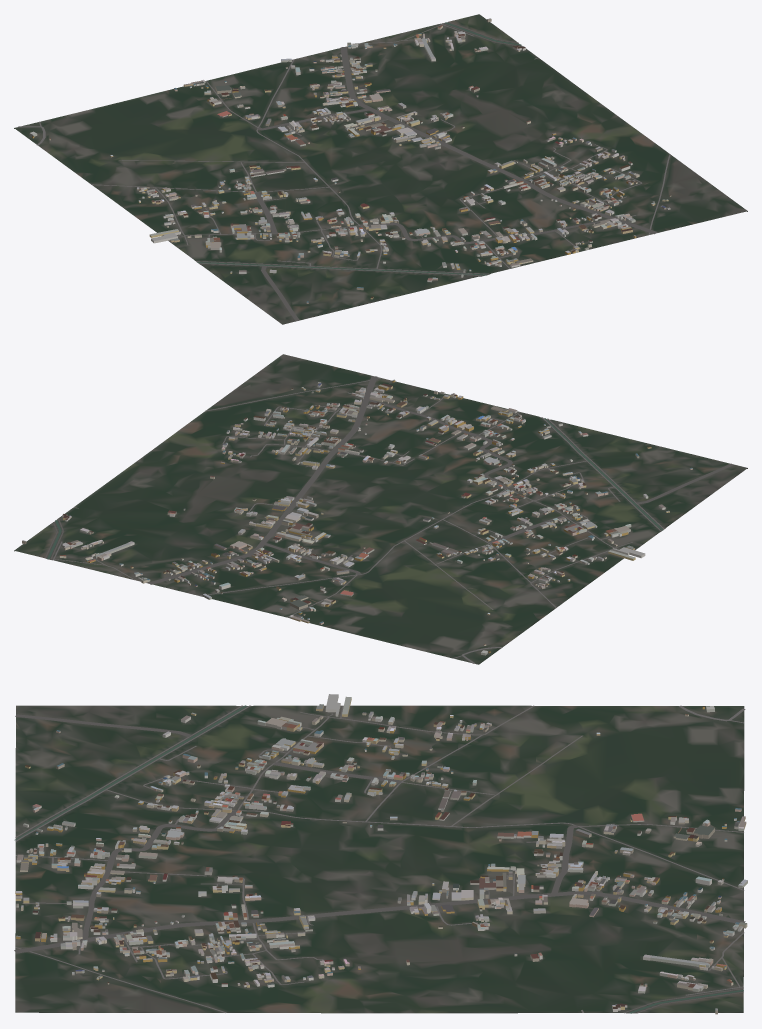
The picture shows the model from 3 angles, top to bottom: view 1: azimuth 30°, elevation 25°; view 2: azimuth 150°, elevation 25°; view 3: azimuth 270°, elevation 25°; orthographic projection. The views are drawn at different scales.
Visible parts, largest first — view 1: ground, buildings, roads, water; view 2: ground, buildings, roads; view 3: ground, buildings, roads, water.
Boxes of the visible parts, bbox=[...] form: ground: bbox=[14, 14, 747, 324]; buildings: bbox=[29, 18, 671, 303]; roads: bbox=[18, 21, 670, 320]; water: bbox=[197, 22, 521, 275]; ground: bbox=[14, 354, 747, 664]; buildings: bbox=[22, 379, 692, 655]; roads: bbox=[45, 376, 733, 663]; ground: bbox=[15, 705, 744, 1013]; buildings: bbox=[15, 694, 747, 1014]; roads: bbox=[14, 705, 745, 1013]; water: bbox=[14, 705, 743, 1013].
Bounding box in the file's own units: 1444 × 14.78 × 1411.
